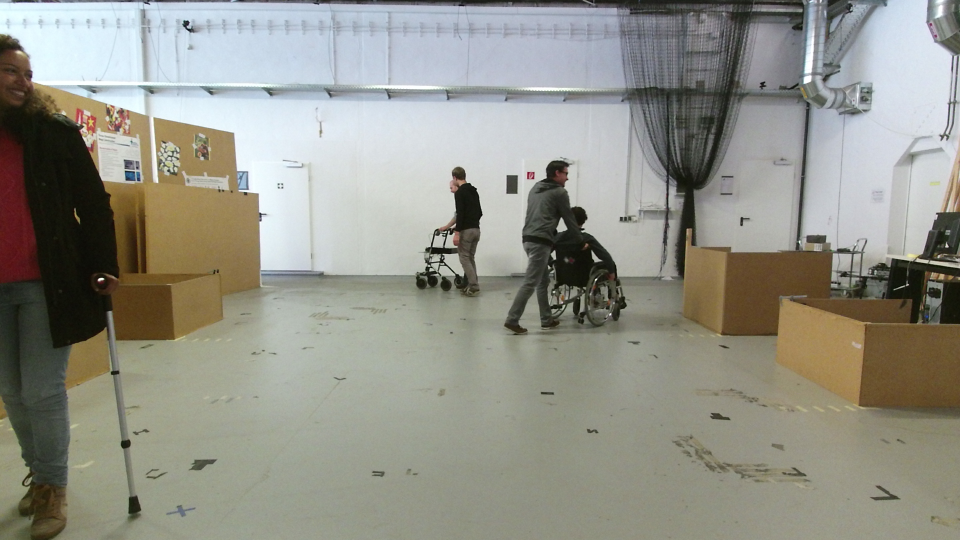crutches: (1, 31, 145, 518)
